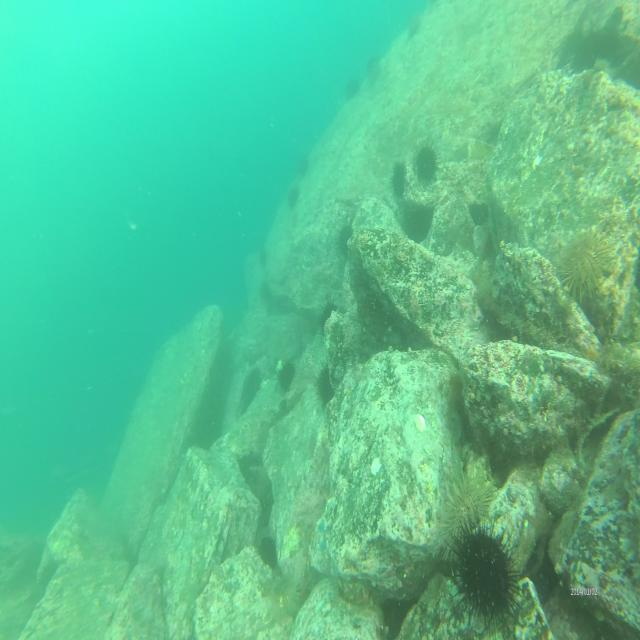echinus: (444, 514, 526, 631), (438, 457, 495, 560), (558, 225, 613, 305), (412, 140, 440, 189), (313, 361, 335, 410), (335, 218, 356, 256), (276, 358, 296, 394), (391, 158, 407, 200), (364, 55, 384, 88), (409, 10, 421, 40), (345, 76, 360, 100), (288, 185, 300, 208), (296, 156, 308, 177)
